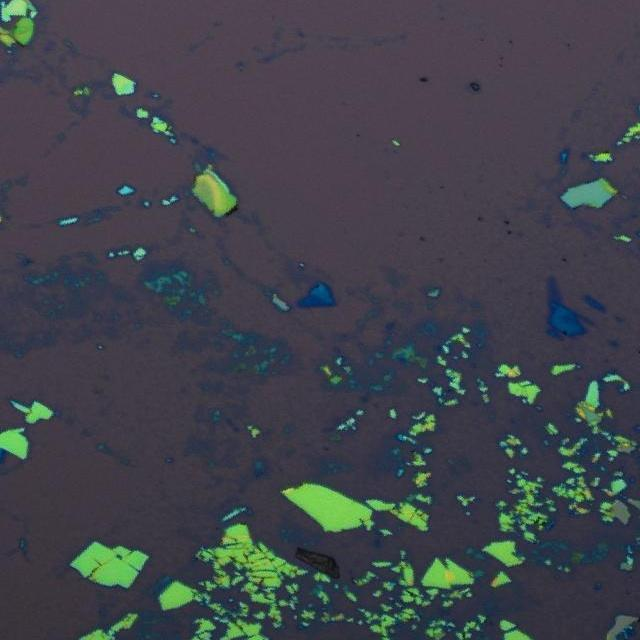monolayer-eWW4: (546, 274, 566, 304)
